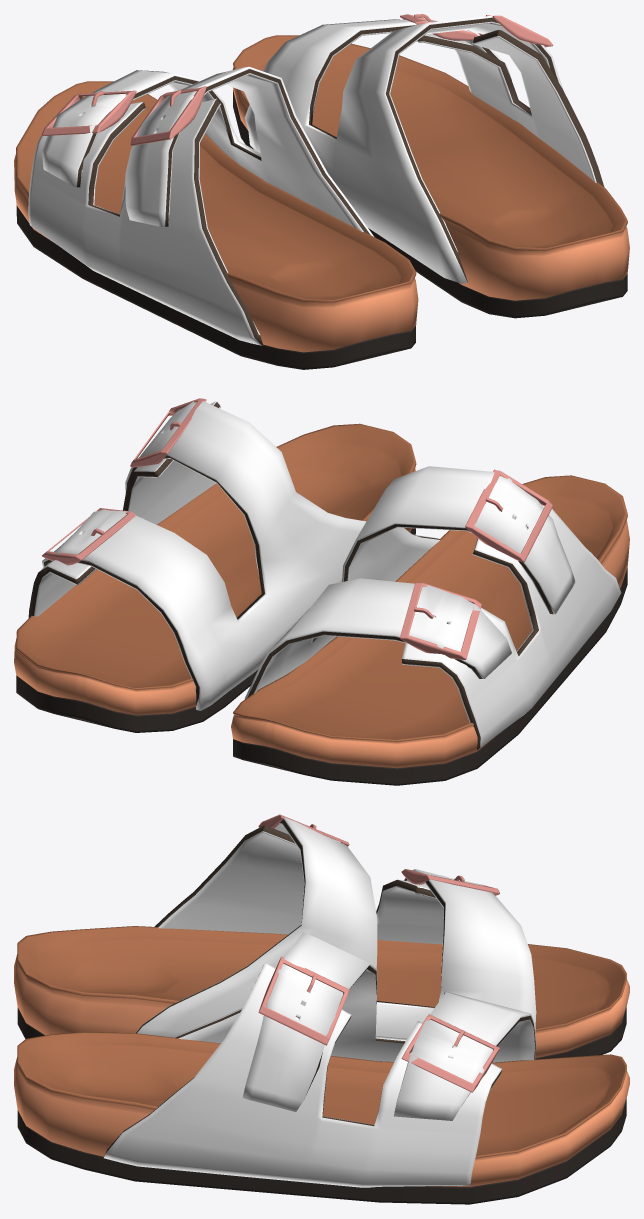
File: Sandals.glb
3 renders of one model, top to bottom at view 1: azimuth 30°, elevation 25°; view 2: azimuth 150°, elevation 25°; view 3: azimuth 270°, elevation 25°, orthographic.
Visible parts, largest first — view 1: Plane.003, Plane.013, Plane.007, Plane.015, Plane.014, Plane.008, Plane.012, Plane.002, Plane.016, Plane.017, Plane.010, Plane.009; view 2: Plane.007, Plane.013, Plane.003, Plane.014, Plane.015, Plane.012, Plane.008, Plane.002, Plane.017, Plane.016, Plane.010, Plane.009; view 3: Plane.003, Plane.013, Plane.008, Plane.007, Plane.014, Plane.015, Plane.002, Plane.010, Plane.009, Plane.012, Plane.016.
Boxes of the visible parts, x1,y1,x2,y2 form: Plane.003: [232, 35, 629, 300]; Plane.013: [14, 81, 418, 352]; Plane.007: [244, 15, 564, 283]; Plane.015: [28, 98, 262, 345]; Plane.014: [42, 66, 374, 236]; Plane.008: [416, 30, 604, 187]; Plane.012: [16, 205, 415, 369]; Plane.002: [233, 90, 627, 318]; Plane.016: [41, 90, 136, 136]; Plane.017: [130, 86, 206, 146]; Plane.010: [478, 15, 553, 47]; Plane.009: [400, 14, 478, 40]; Plane.007: [42, 401, 366, 710]; Plane.013: [231, 475, 629, 768]; Plane.003: [14, 423, 416, 715]; Plane.014: [244, 466, 575, 698]; Plane.015: [401, 470, 621, 749]; Plane.012: [233, 568, 627, 785]; Plane.008: [28, 401, 220, 617]; Plane.002: [16, 528, 415, 732]; Plane.017: [465, 469, 553, 562]; Plane.016: [400, 582, 481, 659]; Plane.010: [130, 398, 206, 467]; Plane.009: [42, 508, 136, 565]; Plane.003: [14, 1032, 629, 1186]; Plane.013: [14, 926, 629, 1058]; Plane.008: [103, 962, 502, 1187]; Plane.007: [172, 932, 536, 1120]; Plane.014: [136, 817, 536, 1038]; Plane.015: [154, 825, 443, 944]; Plane.002: [17, 1099, 626, 1204]; Plane.010: [258, 956, 349, 1045]; Plane.009: [401, 1014, 499, 1092]; Plane.012: [17, 1007, 626, 1059]; Plane.016: [401, 869, 499, 895].
Bounding box in the file's own units: 0.4568 × 0.2037 × 0.5409.
